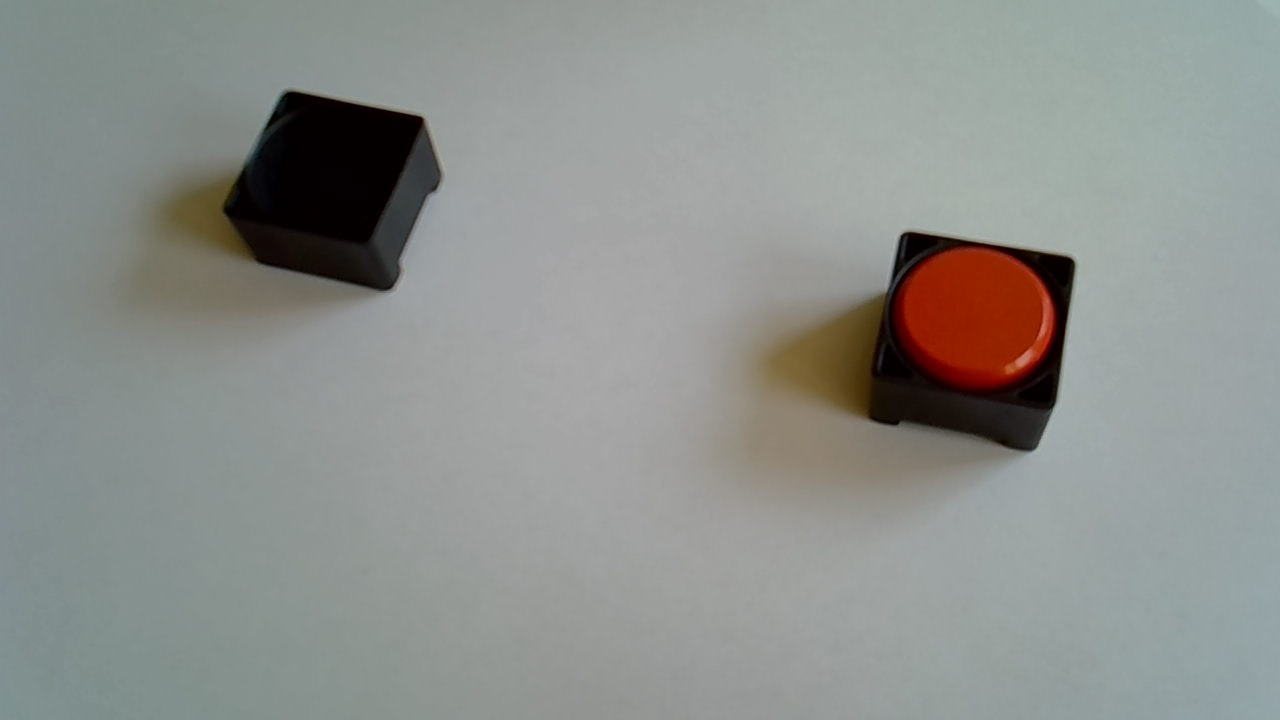Behaelter: (863, 230, 1078, 452), (221, 88, 445, 294)
WerkStueck: (893, 244, 1057, 385)
